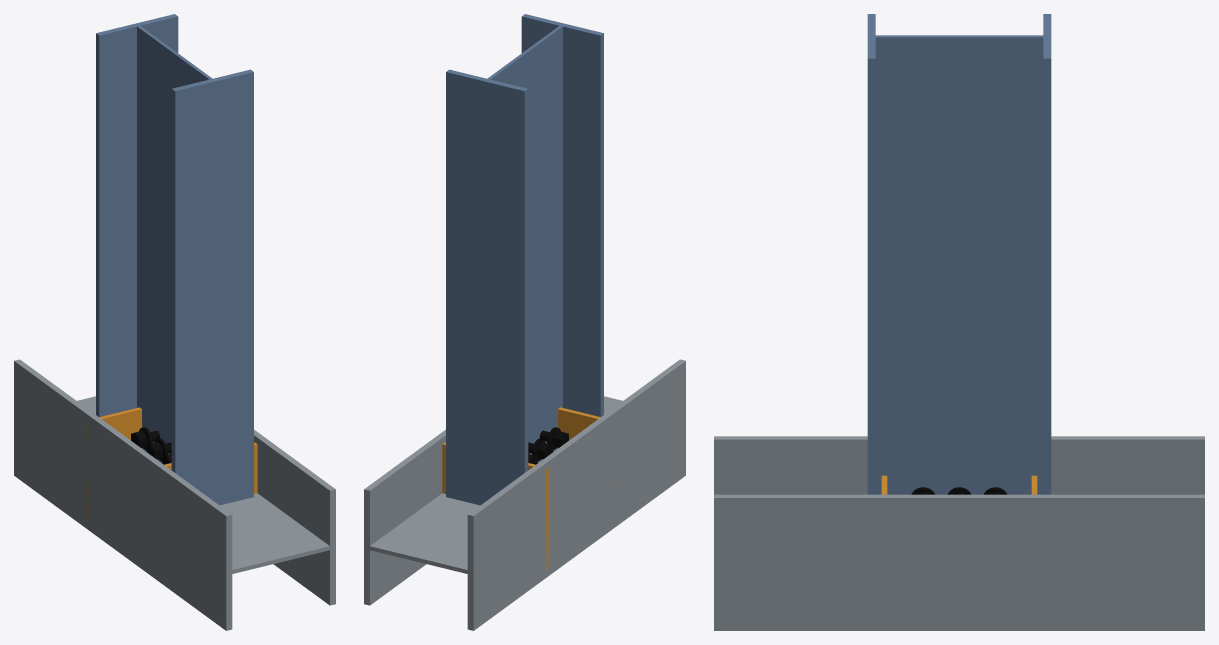
The model's file is detail_c_beam_to_column_web_connection.obj.
3 renders of one model, left to right at view 1: azimuth 30°, elevation 25°; view 2: azimuth 150°, elevation 25°; view 3: azimuth 270°, elevation 25°, orthographic. The views are drawn at different scales.
Parts seen in each view (by area): view 1: BEAM_UB254x146x37_top_flange, COLUMN_UC203x203x46_flange_left, BEAM_UB254x146x37_bottom_flange, BEAM_UB254x146x37_web, COLUMN_UC203x203x46_flange_right, COLUMN_UC203x203x46_web, PL8_column_stiffener_bottom; view 2: BEAM_UB254x146x37_bottom_flange, COLUMN_UC203x203x46_flange_left, BEAM_UB254x146x37_top_flange, BEAM_UB254x146x37_web, COLUMN_UC203x203x46_flange_right, COLUMN_UC203x203x46_web, PL8_column_stiffener_top, PL8_column_stiffener_bottom; view 3: BEAM_UB254x146x37_web, COLUMN_UC203x203x46_flange_right, COLUMN_UC203x203x46_flange_left, BEAM_UB254x146x37_top_flange, BEAM_UB254x146x37_bottom_flange.
Boxes of the visible parts, <box> form: BEAM_UB254x146x37_top_flange: <box>171,69,253,505</box>; COLUMN_UC203x203x46_flange_left: <box>14,359,232,630</box>; BEAM_UB254x146x37_bottom_flange: <box>96,14,178,416</box>; BEAM_UB254x146x37_web: <box>137,25,212,462</box>; COLUMN_UC203x203x46_flange_right: <box>254,429,335,605</box>; COLUMN_UC203x203x46_web: <box>77,396,329,573</box>; PL8_column_stiffener_bottom: <box>86,407,141,523</box>; BEAM_UB254x146x37_bottom_flange: <box>446,69,528,505</box>; COLUMN_UC203x203x46_flange_left: <box>467,359,685,630</box>; BEAM_UB254x146x37_top_flange: <box>521,14,603,416</box>; BEAM_UB254x146x37_web: <box>487,25,562,462</box>; COLUMN_UC203x203x46_flange_right: <box>364,429,445,605</box>; COLUMN_UC203x203x46_web: <box>370,396,622,573</box>; PL8_column_stiffener_top: <box>558,407,613,508</box>; PL8_column_stiffener_bottom: <box>442,442,548,570</box>; BEAM_UB254x146x37_web: <box>875,35,1043,494</box>; COLUMN_UC203x203x46_flange_right: <box>714,494,1204,630</box>; COLUMN_UC203x203x46_flange_left: <box>714,436,1204,494</box>; BEAM_UB254x146x37_top_flange: <box>867,14,875,494</box>; BEAM_UB254x146x37_bottom_flange: <box>1043,14,1051,494</box>.
Size of the model in its own units: 203 by 862 by 680.
